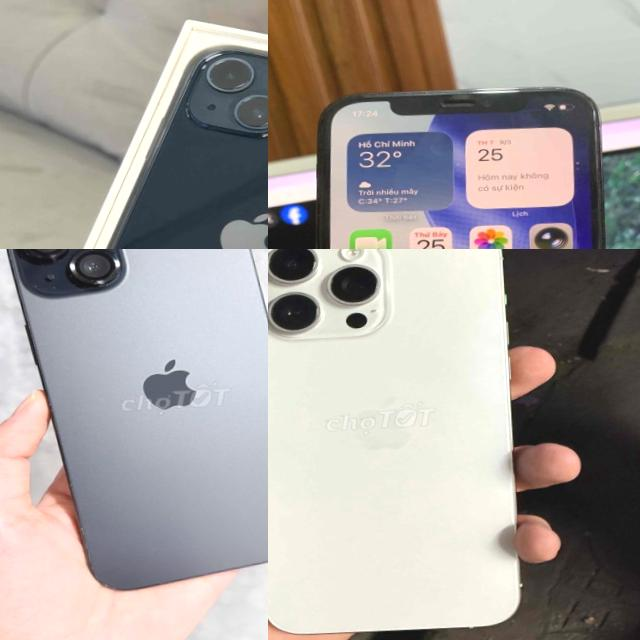gen_12_13: (274, 67, 632, 249), (31, 37, 268, 249)
gen_15: (268, 249, 548, 640), (0, 249, 268, 603)
scratch: (72, 522, 120, 597)
